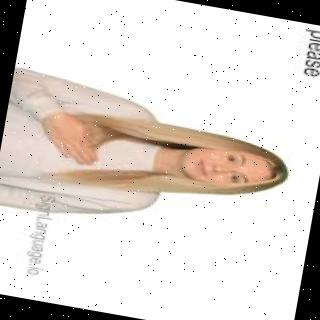Please: (38, 113, 118, 171)
